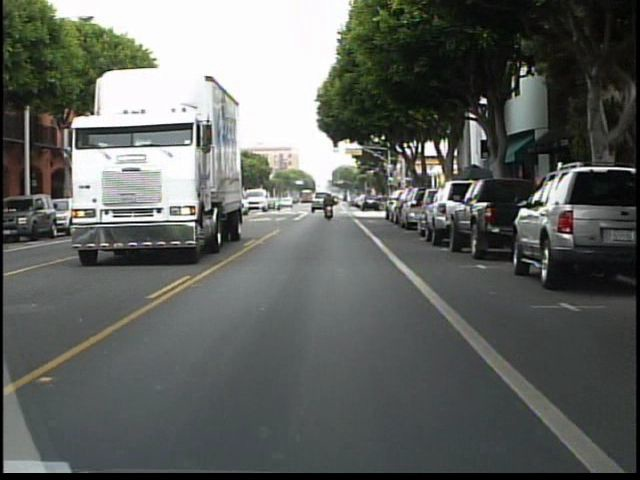person: (323, 192, 336, 223)
